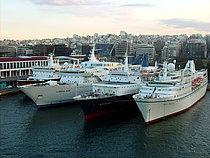Ship: (21, 47, 113, 110), (134, 59, 210, 128)
